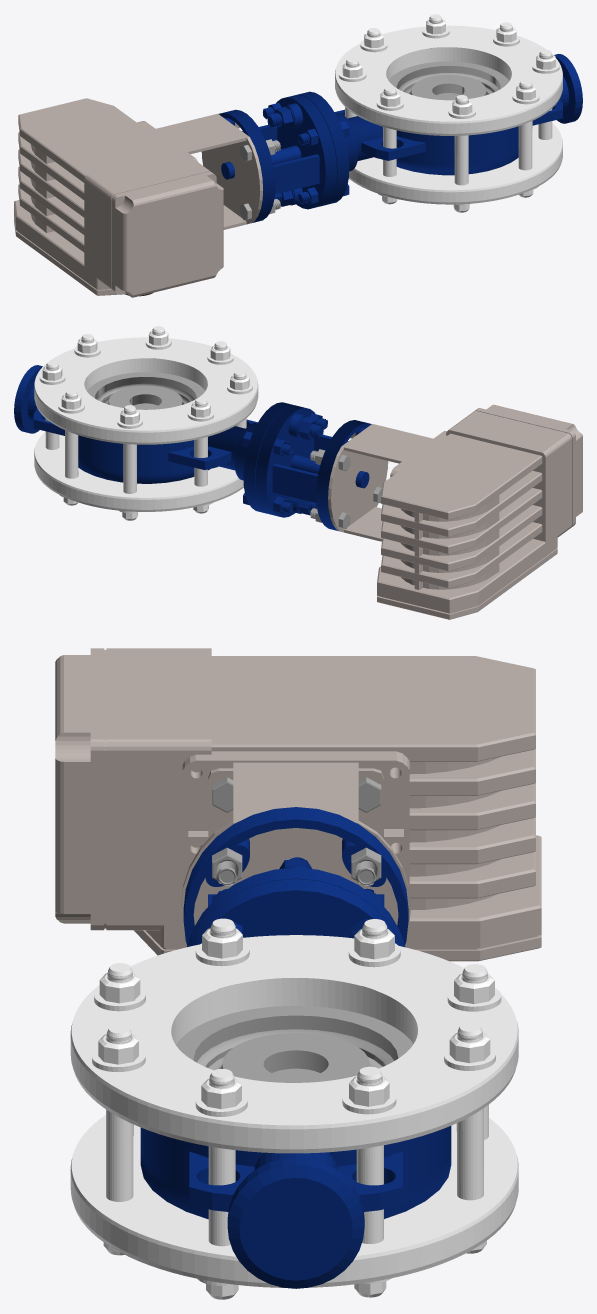
File: клапана.fbx
3 renders of one model, top to bottom at view 1: azimuth 30°, elevation 25°; view 2: azimuth 150°, elevation 25°; view 3: azimuth 270°, elevation 25°, orthographic. The views are drawn at different scales.
Visible parts, largest first — view 1: Plane.013, Plane.016; view 2: Plane.013, Plane.016; view 3: Plane.013, Plane.016.
Part boxes in pixels (<box>): Plane.013: <box>14,14,582,297</box>; Plane.016: <box>388,61,511,100</box>; Plane.013: <box>14,326,582,619</box>; Plane.016: <box>84,372,204,409</box>; Plane.013: <box>55,648,541,1299</box>; Plane.016: <box>176,1006,413,1082</box>.
Size of the model in its own units: 23.95 by 6.03 by 10.17.
